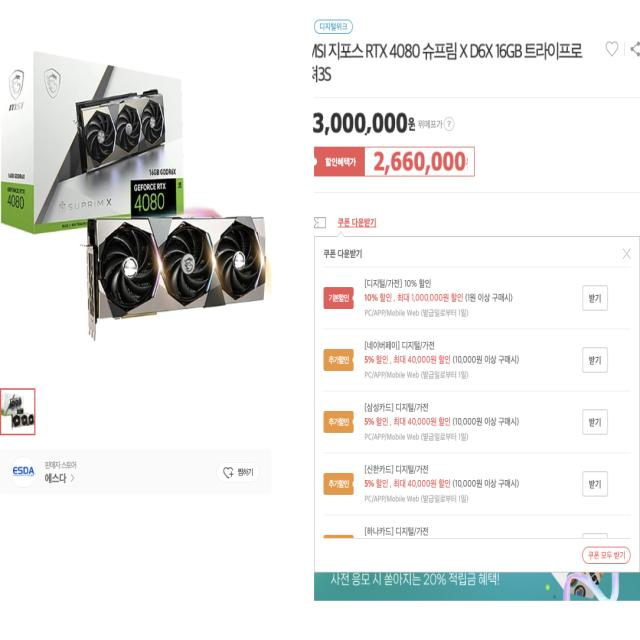product_discount_price: (368, 149, 468, 175)
product_name: (312, 36, 587, 82)
product_original_price: (312, 111, 415, 134)
